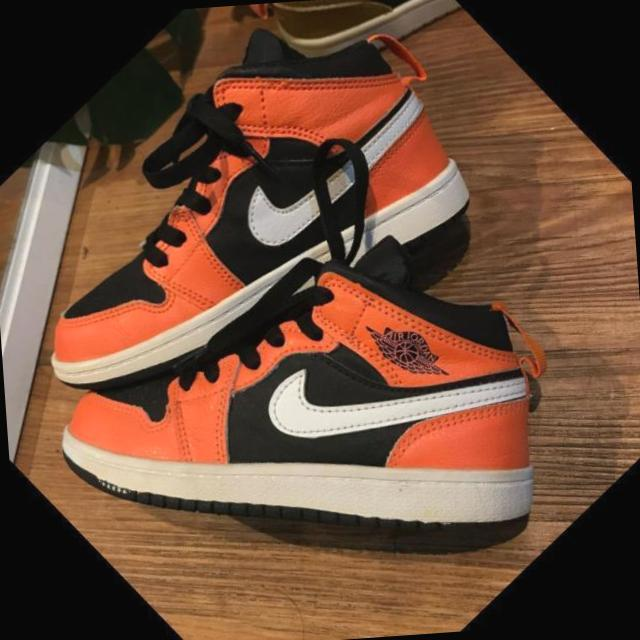nike_fake_jordan: (8, 119, 627, 640), (0, 0, 538, 511), (210, 0, 499, 162)
